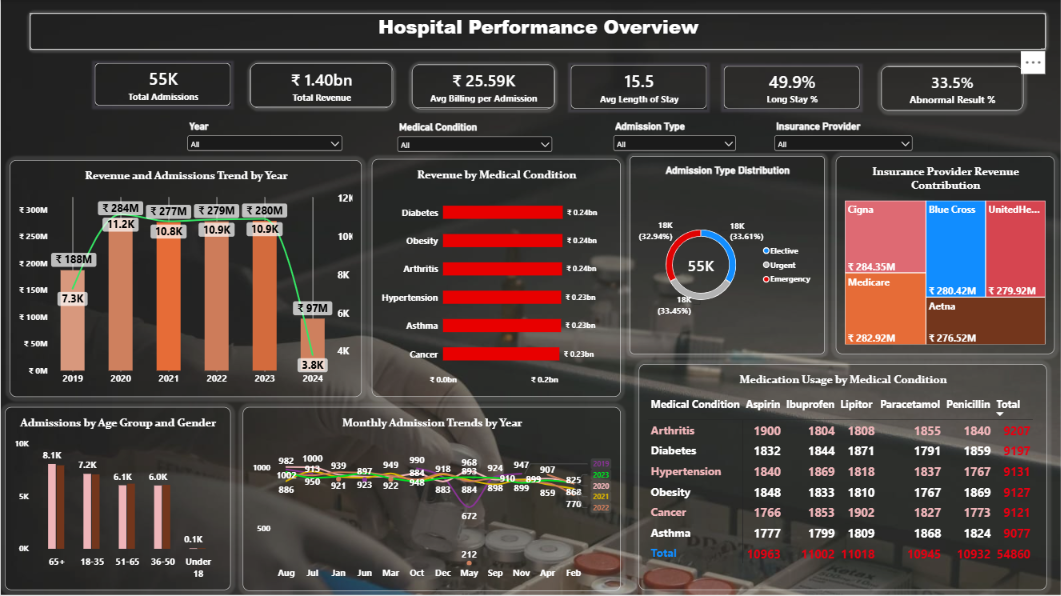

Layout of this report page (visuals, bound fields, positions):
{"tool":"powerbi","page":{"name":"Hospital Performance Overview","canvas":[1920,1080],"ordinal":0},"visuals":[{"type":"cardVisual","fields":{"Data":["CoreMeasures.Total Admissions"]},"box":[170.1,114,246.2,77.6],"z":0},{"type":"textbox","title":"Hospital Performance Overview","box":[52.5,23.5,1838.9,66.3],"z":1000},{"type":"cardVisual","fields":{"Data":["CoreMeasures.Total Revenue"]},"box":[450.6,114,259.5,81.4],"z":2000},{"type":"cardVisual","fields":{"Data":["CoreMeasures.Avg Billing per Admission"]},"box":[743.8,115.8,259.5,81.4],"z":3000},{"type":"cardVisual","fields":{"Data":["CoreMeasures.Avg Length of Stay"]},"box":[1031.5,117.6,246.1,79.6],"z":4000},{"type":"cardVisual","fields":{"Data":["PercentageMeasures.Long Stay %"]},"box":[1308.4,119.4,246.2,77.6],"z":5000},{"type":"cardVisual","fields":{"Data":["PercentageMeasures.Abnormal Result %"]},"box":[1592.5,119.4,258.8,81.4],"z":6000},{"type":"slicer","fields":{"Values":["Calendar.Year"]},"box":[333,217.2,289.5,70.6],"z":7000},{"type":"slicer","fields":{"Values":["healthcare_dataset.Medical Condition"]},"box":[713,219,289.8,70.1],"z":8000},{"type":"slicer","fields":{"Values":["healthcare_dataset.Admission Type"]},"box":[1103.9,217.2,231.1,72],"z":9000},{"type":"slicer","fields":{"Values":["healthcare_dataset.Insurance Provider"]},"box":[1395.2,217.2,259.5,66.3],"z":10000},{"type":"lineClusteredColumnComboChart","title":"Revenue and Admissions Trend by Year","fields":{"Category":["Calendar.Year"],"Y":["CoreMeasures.Total Revenue"],"Y2":["CoreMeasures.Total Admissions"]},"box":[16.3,289.5,637,428.9],"z":11000},{"type":"clusteredBarChart","title":"Revenue by Medical Condition","fields":{"Category":["healthcare_dataset.Medical Condition"],"Y":["CoreMeasures.Total Revenue"]},"box":[671.4,287.7,450.6,430.7],"z":12000},{"type":"donutChart","title":"Admission Type Distribution","fields":{"Category":["healthcare_dataset.Admission Type"],"Y":["CoreMeasures.Total Admissions"]},"box":[1138.3,282.3,352.9,358.3],"z":13000},{"type":"treemap","title":"Insurance Provider Revenue Contribution","fields":{"Group":["healthcare_dataset.Insurance Provider"],"Values":["CoreMeasures.Total Revenue"]},"box":[1511.1,282.3,396.3,358.3],"z":14000},{"type":"clusteredColumnChart","title":"Admissions by Age Group and Gender","fields":{"Category":["healthcare_dataset.Age Group"],"Series":["healthcare_dataset.Gender"],"Y":["CoreMeasures.Total Admissions"]},"box":[7.8,736.4,408.9,331.4],"z":15000},{"type":"lineChart","title":"Monthly Admission Trends by Year","fields":{"Category":["Calendar.Month"],"Series":["Calendar.Year"],"Y":["CoreMeasures.Total Admissions"]},"box":[437.9,736.5,684.1,333],"z":16000},{"type":"pivotTable","title":"Medication Usage by Medical Condition","fields":{"Columns":["healthcare_dataset.Medication"],"Rows":["healthcare_dataset.Medical Condition"],"Values":["CoreMeasures.Total Admissions"]},"box":[1154.6,658.7,738.3,409],"z":17000}]}

Visuals, with their boxes in screenshot pixels (x1, y1, x2, y2), scaled from the page's 1920x1080 canvas onto the 1061x596 screenshot:
cardVisual - CoreMeasures.Total Admissions: [x1=94, y1=63, x2=230, y2=106]
"Hospital Performance Overview" textbox: [x1=29, y1=13, x2=1045, y2=50]
cardVisual - CoreMeasures.Total Revenue: [x1=249, y1=63, x2=392, y2=108]
cardVisual - CoreMeasures.Avg Billing per Admission: [x1=411, y1=64, x2=554, y2=109]
cardVisual - CoreMeasures.Avg Length of Stay: [x1=570, y1=65, x2=706, y2=109]
cardVisual - PercentageMeasures.Long Stay %: [x1=723, y1=66, x2=859, y2=109]
cardVisual - PercentageMeasures.Abnormal Result %: [x1=880, y1=66, x2=1023, y2=111]
slicer - Calendar.Year: [x1=184, y1=120, x2=344, y2=159]
slicer - healthcare_dataset.Medical Condition: [x1=394, y1=121, x2=554, y2=160]
slicer - healthcare_dataset.Admission Type: [x1=610, y1=120, x2=738, y2=160]
slicer - healthcare_dataset.Insurance Provider: [x1=771, y1=120, x2=914, y2=156]
"Revenue and Admissions Trend by Year" lineClusteredColumnComboChart: [x1=9, y1=160, x2=361, y2=396]
"Revenue by Medical Condition" clusteredBarChart: [x1=371, y1=159, x2=620, y2=396]
"Admission Type Distribution" donutChart: [x1=629, y1=156, x2=824, y2=354]
"Insurance Provider Revenue Contribution" treemap: [x1=835, y1=156, x2=1054, y2=354]
"Admissions by Age Group and Gender" clusteredColumnChart: [x1=4, y1=406, x2=230, y2=589]
"Monthly Admission Trends by Year" lineChart: [x1=242, y1=406, x2=620, y2=590]
"Medication Usage by Medical Condition" pivotTable: [x1=638, y1=364, x2=1046, y2=589]
